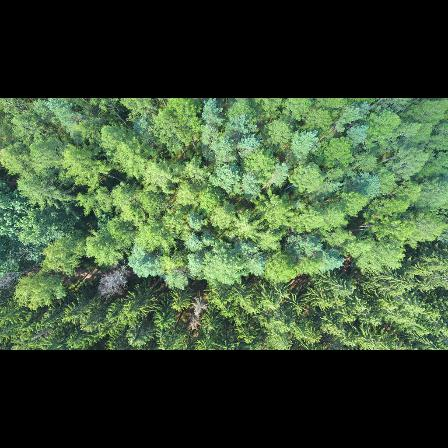Dead: (95, 264, 131, 301), (186, 292, 210, 332)
